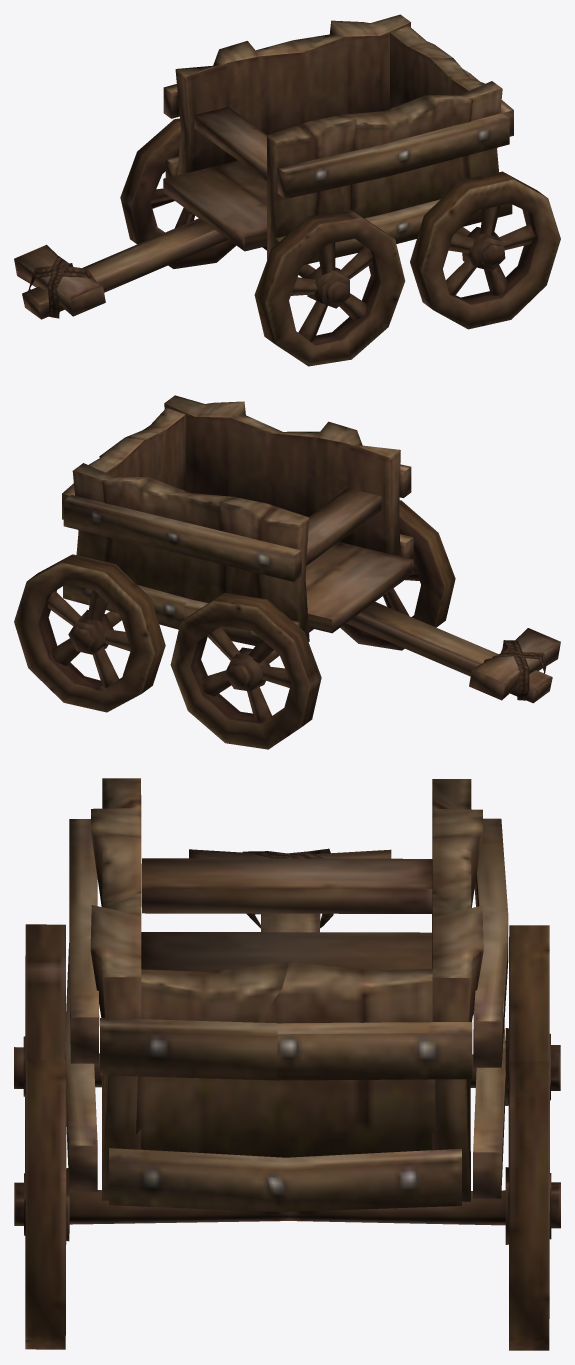
File: Scene_Wagon_LOD0.FBX
3 views of the same model, one above another, from view 1: azimuth 30°, elevation 25°; view 2: azimuth 150°, elevation 25°; view 3: azimuth 270°, elevation 25° (orthographic). The views are drawn at different scales.
Parts seen in each view (by area): view 1: Scene_Wagon; view 2: Scene_Wagon; view 3: Scene_Wagon.
Part boxes in pixels (x1,y1,x2,y2): Scene_Wagon: [14, 14, 560, 366]; Scene_Wagon: [14, 395, 560, 749]; Scene_Wagon: [14, 778, 560, 1350].
Size of the model in its own units: 263 by 122 by 151.
